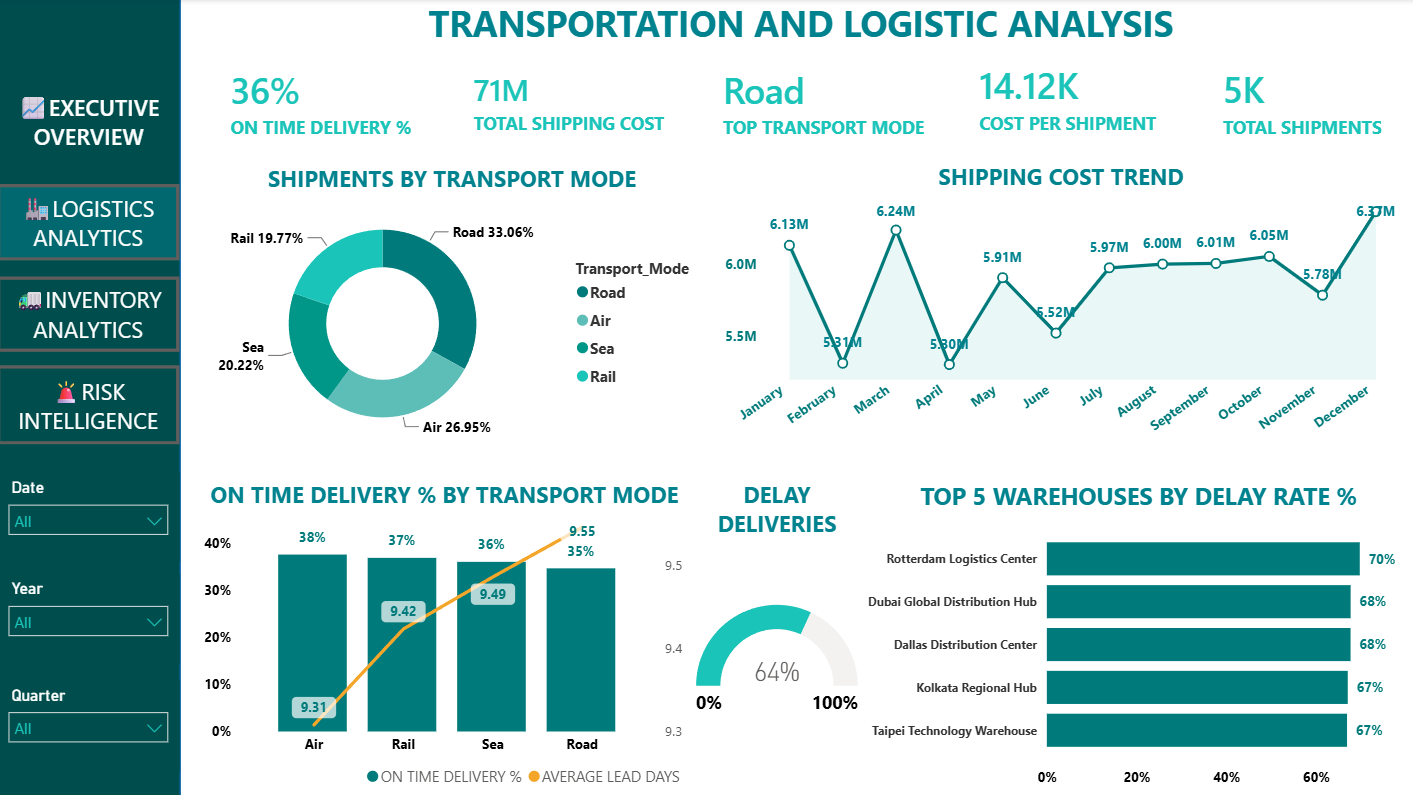

Layout of this report page (visuals, bound fields, positions):
{"tool":"powerbi","page":{"name":"Logistics Analytics","canvas":[1280,720],"ordinal":1},"visuals":[{"type":"cardVisual","fields":{"Data":["FACT_SHIPMENT.Most Used Transport Mode"]},"box":[625.6,39.4,241.2,107.1],"z":0},{"type":"cardVisual","fields":{"Data":["FACT_SHIPMENT.Total Shipping Cost"]},"box":[405.8,39.5,233.7,107],"z":1000},{"type":"shape","box":[1.2,0,164.5,720],"z":2000},{"type":"actionButton","box":[1.2,76.3,163.3,66.8],"z":3000},{"type":"actionButton","box":[0,166.9,164.5,69.1],"z":4000},{"type":"actionButton","box":[0,250.3,164.5,67.9],"z":5000},{"type":"actionButton","box":[0,330.2,164.5,71.5],"z":6000},{"type":"slicer","fields":{"Values":["DIM_DATE.Year"]},"box":[0,518.5,164.5,81.1],"z":7000},{"type":"slicer","fields":{"Values":["DIM_DATE.Date"]},"box":[0,426.7,164.5,79.9],"z":8000},{"type":"slicer","fields":{"Values":["DIM_DATE.Quarter"]},"box":[0,613.9,164.5,83.4],"z":9000},{"type":"shape","box":[168.6,0,1111.6,38.4],"z":10000},{"type":"cardVisual","fields":{"Data":["FACT_SHIPMENT.ON TIME DELIVERY %"]},"box":[181.2,39.3,224.1,107.3],"z":11000},{"type":"cardVisual","fields":{"Data":["FACT_SHIPMENT.TOTAL SHIPMENT"]},"box":[1076.7,39.5,203.5,107],"z":13000},{"type":"cardVisual","fields":{"Data":["DIM_DATE.Cost Per Shipment"]},"box":[857,36,219.8,107],"z":14000},{"type":"donutChart","title":"SHIPMENTS BY TRANSPORT MODE","fields":{"Category":["DIM_TRANSPORTATION.Transport_Mode"],"Y":["FACT_SHIPMENT.TOTAL SHIPPING COST"]},"box":[168.6,147.7,482.6,264],"z":15000},{"type":"areaChart","title":"SHIPPING COST TREND ","fields":{"Category":["DIM_DATE.Month"],"Y":["FACT_SHIPMENT.TOTAL FREIGHT AMOUNT"]},"box":[651.2,146.5,616.3,264],"z":16000},{"type":"barChart","title":"TOP 5 WAREHOUSES BY DELAY RATE %","fields":{"Category":["DIM_WAREHOUSE.Warehouse_Name"],"Y":["FACT_SHIPMENT.DELAY %"]},"box":[779.1,432.6,501.2,287.2],"z":17000},{"type":"lineClusteredColumnComboChart","title":"ON TIME DELIVERY % BY TRANSPORT MODE","fields":{"Category":["DIM_TRANSPORTATION.Transport_Mode"],"Y":["FACT_SHIPMENT.ON TIME DELIVERY %"],"Y2":["FACT_SHIPMENT.AVERAGE LEAD DAYS"]},"box":[181.4,432.6,444.2,287.2],"z":18000},{"type":"gauge","title":"DELAY DELIVERIES","fields":{"Y":["FACT_SHIPMENT.DELAY %"]},"box":[625.6,432.6,155.8,279.1],"z":19000}]}

Visuals, with their boxes on the page's 1280x720 design canvas (x1, y1, x2, y2). These are canvas units, not pixel positions in the 1413x795 screenshot, which may show the page scaled, cropped or inside an application window:
cardVisual - FACT_SHIPMENT.Most Used Transport Mode: rect(626, 39, 867, 146)
cardVisual - FACT_SHIPMENT.Total Shipping Cost: rect(406, 40, 640, 146)
shape: rect(1, 0, 166, 720)
actionButton: rect(1, 76, 164, 143)
actionButton: rect(0, 167, 164, 236)
actionButton: rect(0, 250, 164, 318)
actionButton: rect(0, 330, 164, 402)
slicer - DIM_DATE.Year: rect(0, 518, 164, 600)
slicer - DIM_DATE.Date: rect(0, 427, 164, 507)
slicer - DIM_DATE.Quarter: rect(0, 614, 164, 697)
shape: rect(169, 0, 1280, 38)
cardVisual - FACT_SHIPMENT.ON TIME DELIVERY %: rect(181, 39, 405, 147)
cardVisual - FACT_SHIPMENT.TOTAL SHIPMENT: rect(1077, 40, 1280, 146)
cardVisual - DIM_DATE.Cost Per Shipment: rect(857, 36, 1077, 143)
"SHIPMENTS BY TRANSPORT MODE" donutChart: rect(169, 148, 651, 412)
"SHIPPING COST TREND " areaChart: rect(651, 146, 1268, 410)
"TOP 5 WAREHOUSES BY DELAY RATE %" barChart: rect(779, 433, 1280, 720)
"ON TIME DELIVERY % BY TRANSPORT MODE" lineClusteredColumnComboChart: rect(181, 433, 626, 720)
"DELAY DELIVERIES" gauge: rect(626, 433, 781, 712)
